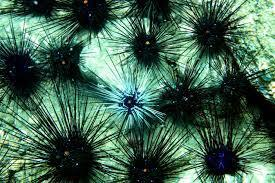urchin: (6, 89, 115, 183), (176, 110, 265, 183), (176, 0, 258, 77), (107, 110, 187, 183), (109, 14, 183, 88), (0, 29, 60, 114), (198, 63, 259, 120), (150, 74, 206, 136), (56, 0, 117, 41), (2, 0, 66, 27)
